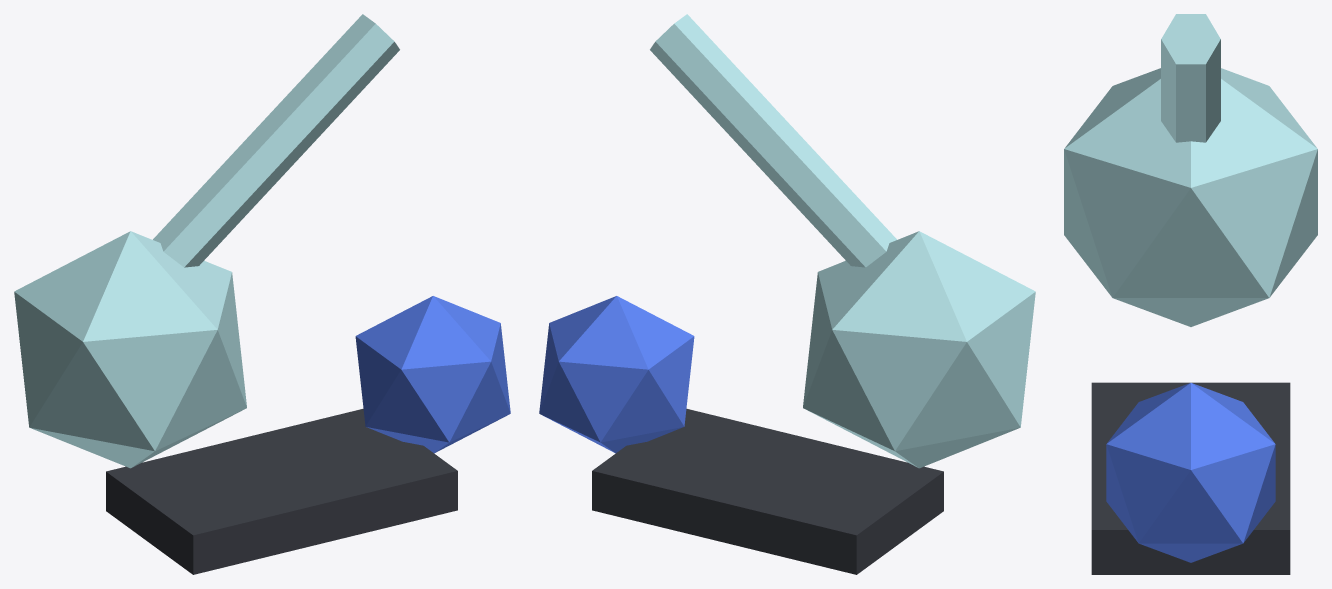
The model's file is distiller.glb.
3 views of the same model, side by side, from view 1: azimuth 30°, elevation 25°; view 2: azimuth 150°, elevation 25°; view 3: azimuth 270°, elevation 25° (orthographic). The views are drawn at different scales.
Parts seen in each view (by area): view 1: distiller; view 2: distiller; view 3: distiller.
Part boxes in pixels (bbox=[...]): distiller: bbox=[14, 14, 510, 574]; distiller: bbox=[539, 14, 1035, 574]; distiller: bbox=[1064, 14, 1317, 574].
Bounding box in the file's own units: 1.25 × 1.19 × 0.5104.
